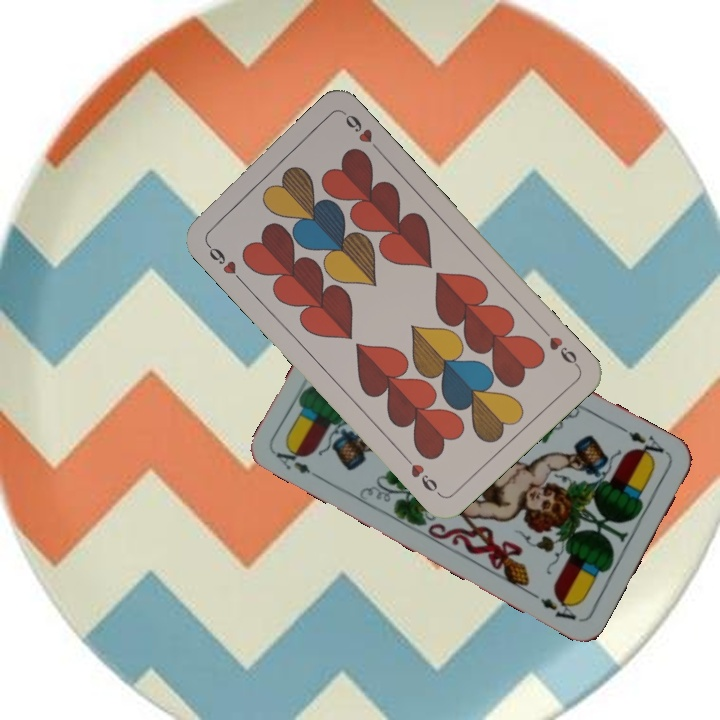EA: (272, 441, 325, 483), (617, 422, 671, 463)
H9: (536, 323, 582, 370), (201, 237, 246, 285)
